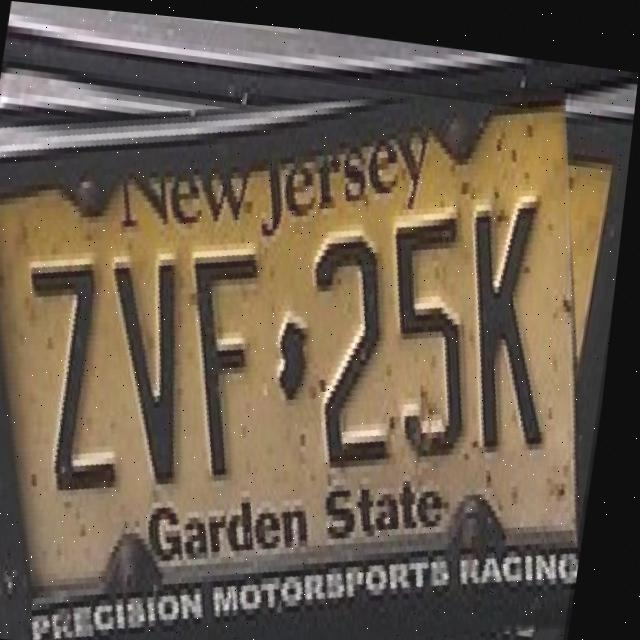LicensePlate: (0, 39, 637, 640)
